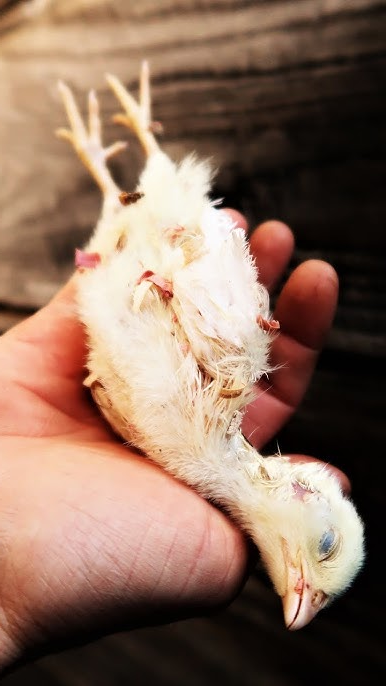Unhealthy: (37, 63, 385, 631)
